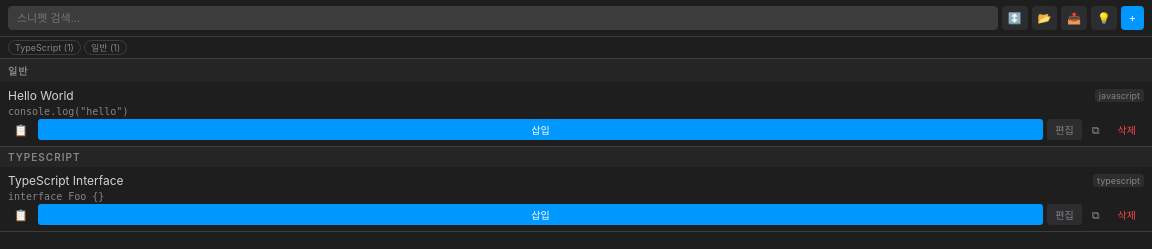
Test: SnippetPanel › 카테고리 필터 클릭 시 해당 카테고리 스니펫만 표시된다
This screenshot has width=1152, height=249.
Expected: the text "Hello World" is shown, [8,88,74,103]
# 일반 카테고리만 (1건)
Click the button "일반 (1)": click(106, 48) [84,40,127,55]
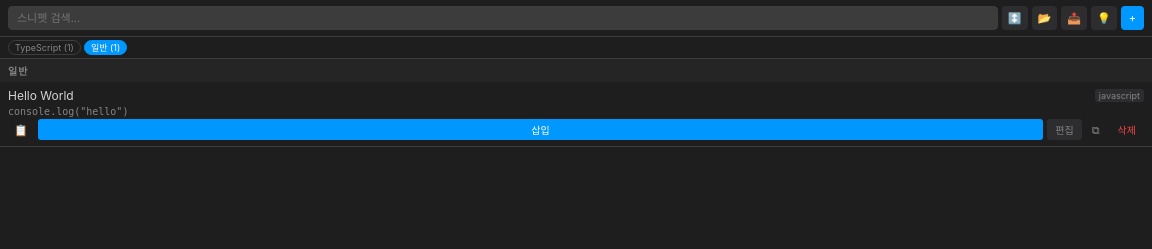
Expected: the text "Hello World" is shown, [8,88,74,103]
Result: the text "TypeScript Interface" is gone
